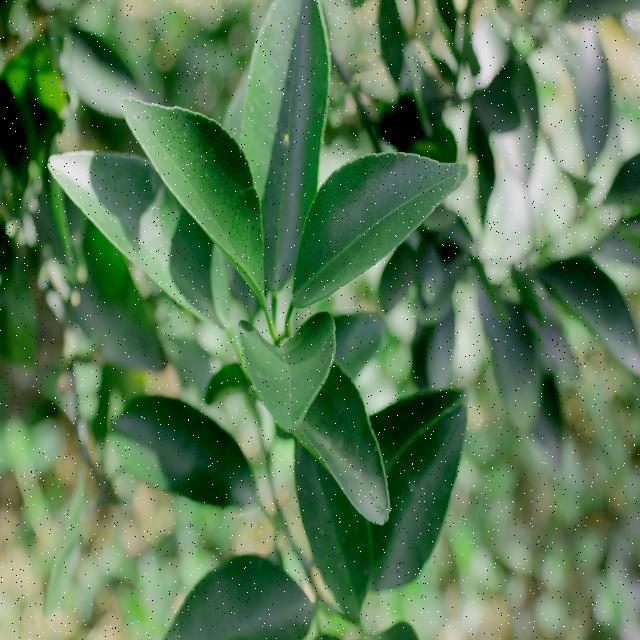healthy: (296, 155, 466, 302), (148, 108, 261, 276), (320, 392, 392, 532)
